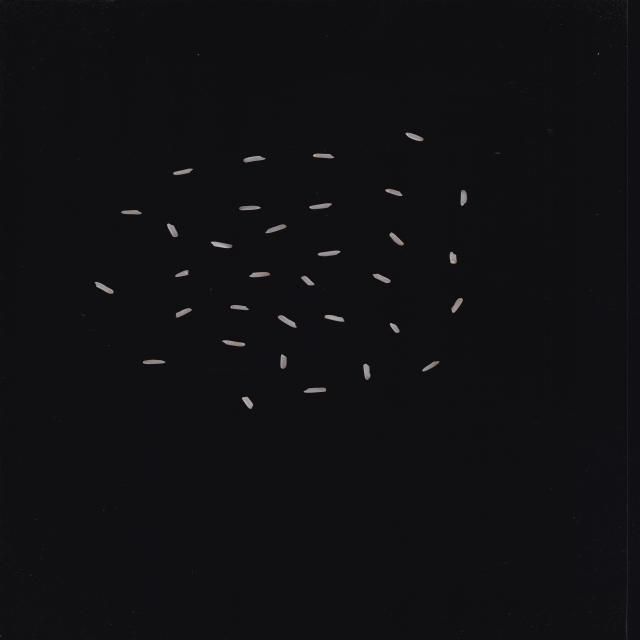Not: (278, 315, 297, 328), (94, 282, 114, 294), (265, 224, 287, 234), (389, 232, 404, 246), (422, 361, 440, 372), (405, 132, 424, 142), (372, 274, 391, 284), (451, 298, 463, 313), (175, 308, 192, 318), (222, 340, 245, 347), (173, 168, 193, 176), (242, 396, 254, 409), (167, 224, 178, 238), (324, 315, 345, 322), (317, 250, 341, 256), (243, 156, 266, 162), (309, 203, 332, 209), (210, 242, 232, 248), (304, 387, 326, 393), (301, 276, 314, 286), (363, 364, 371, 380), (385, 189, 403, 196), (460, 190, 467, 206), (174, 270, 190, 277), (248, 272, 270, 277), (121, 210, 142, 215), (280, 354, 287, 369), (449, 251, 457, 264), (390, 323, 400, 333), (230, 305, 250, 310), (142, 360, 166, 364), (312, 154, 335, 158), (239, 206, 261, 210)
